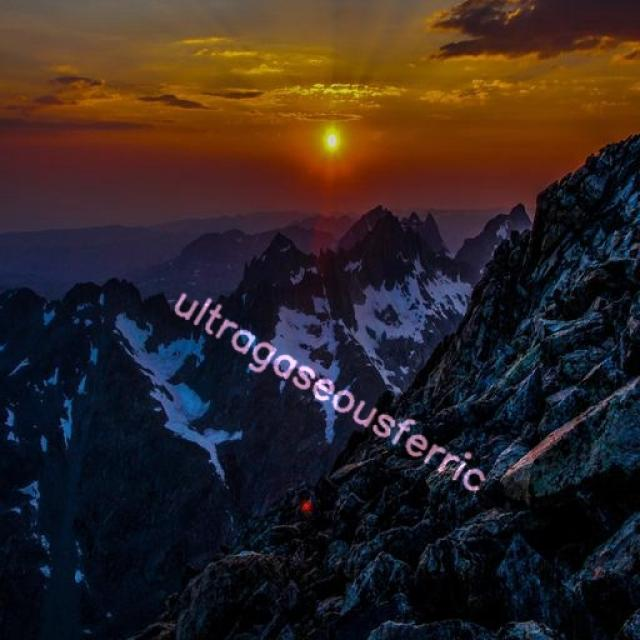watermark: (160, 278, 506, 501)
